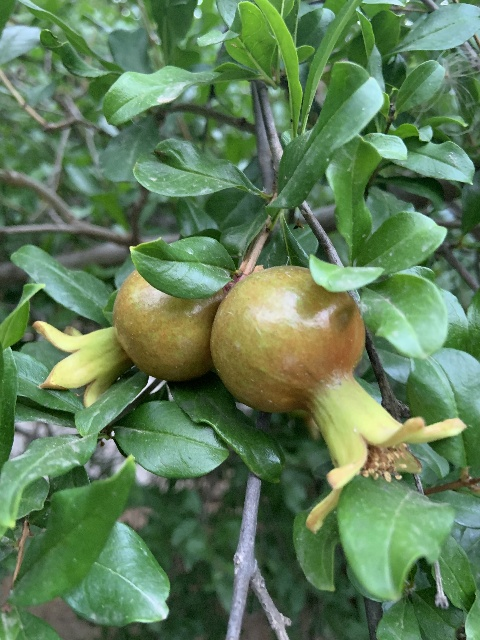early-fruit: (210, 263, 467, 539), (34, 268, 226, 409)
